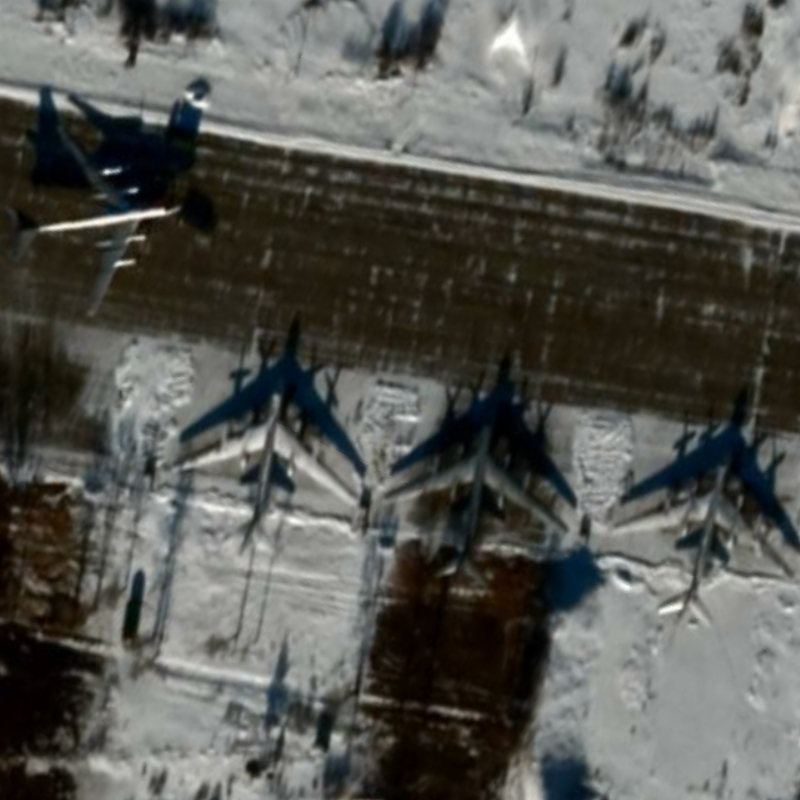A17: (1, 121, 185, 320), (156, 389, 362, 559), (606, 457, 794, 630), (380, 422, 570, 590)
